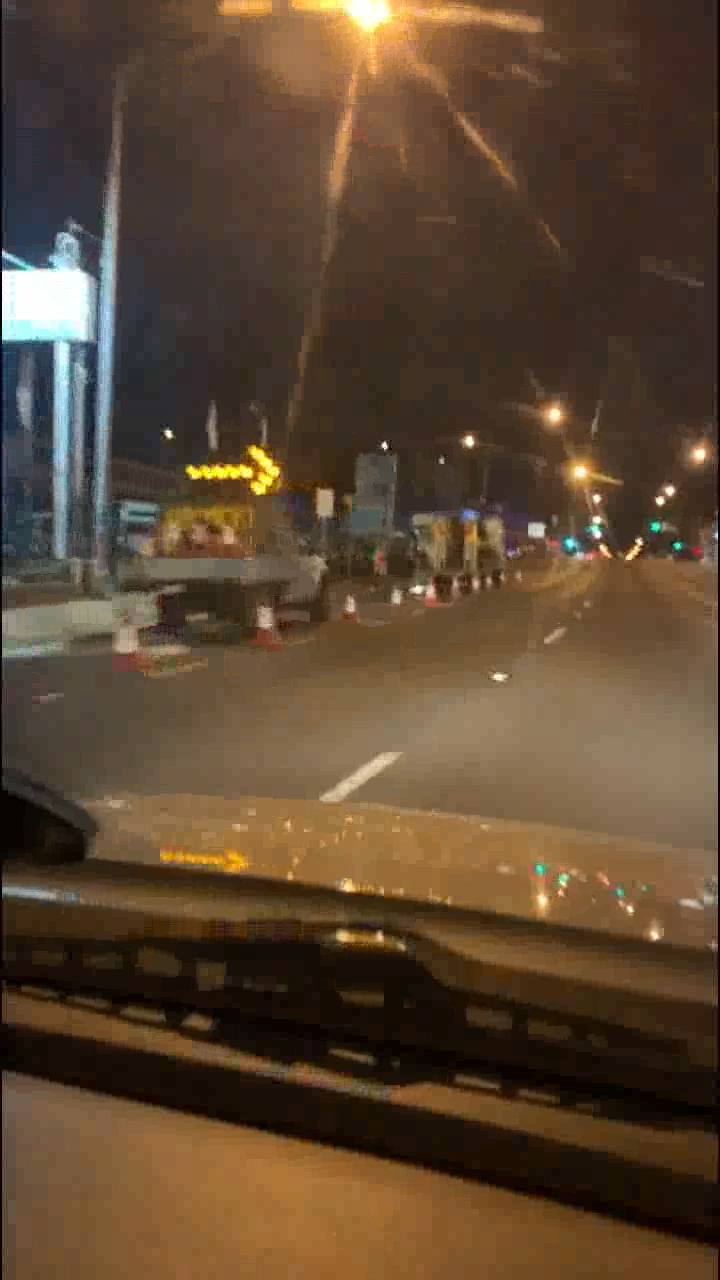truck: (148, 460, 333, 638), (413, 508, 517, 587)
